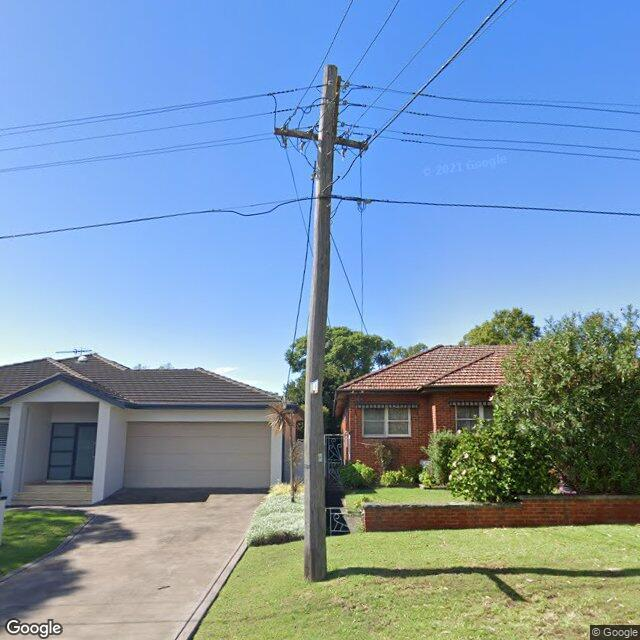crossarm: (272, 127, 369, 151), (333, 76, 342, 143)
timber-pole: (304, 65, 340, 582)
